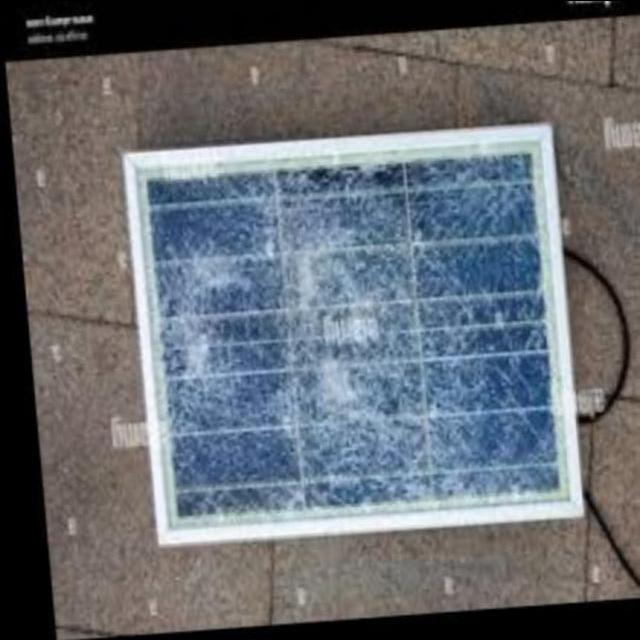cracked: (126, 138, 584, 524)
